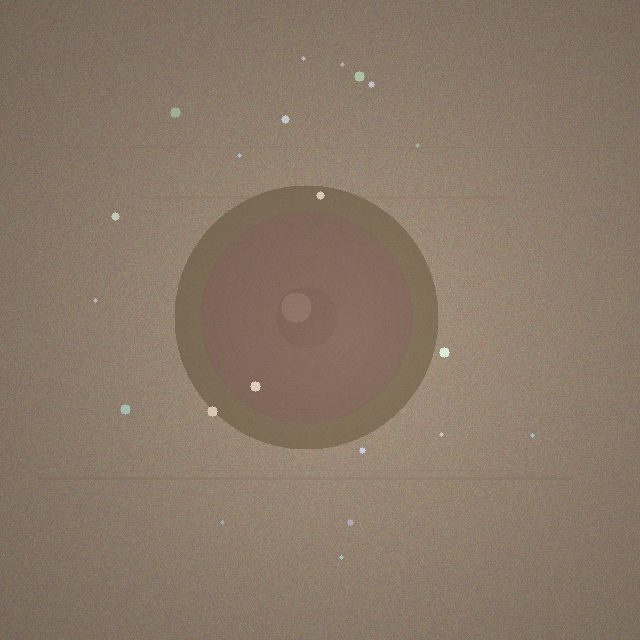overburn: (174, 185, 438, 449)
